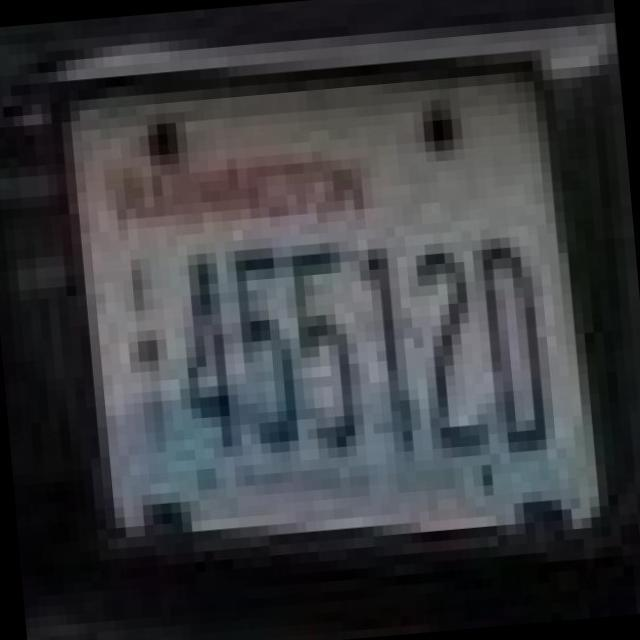License Plate: (41, 31, 612, 586)
